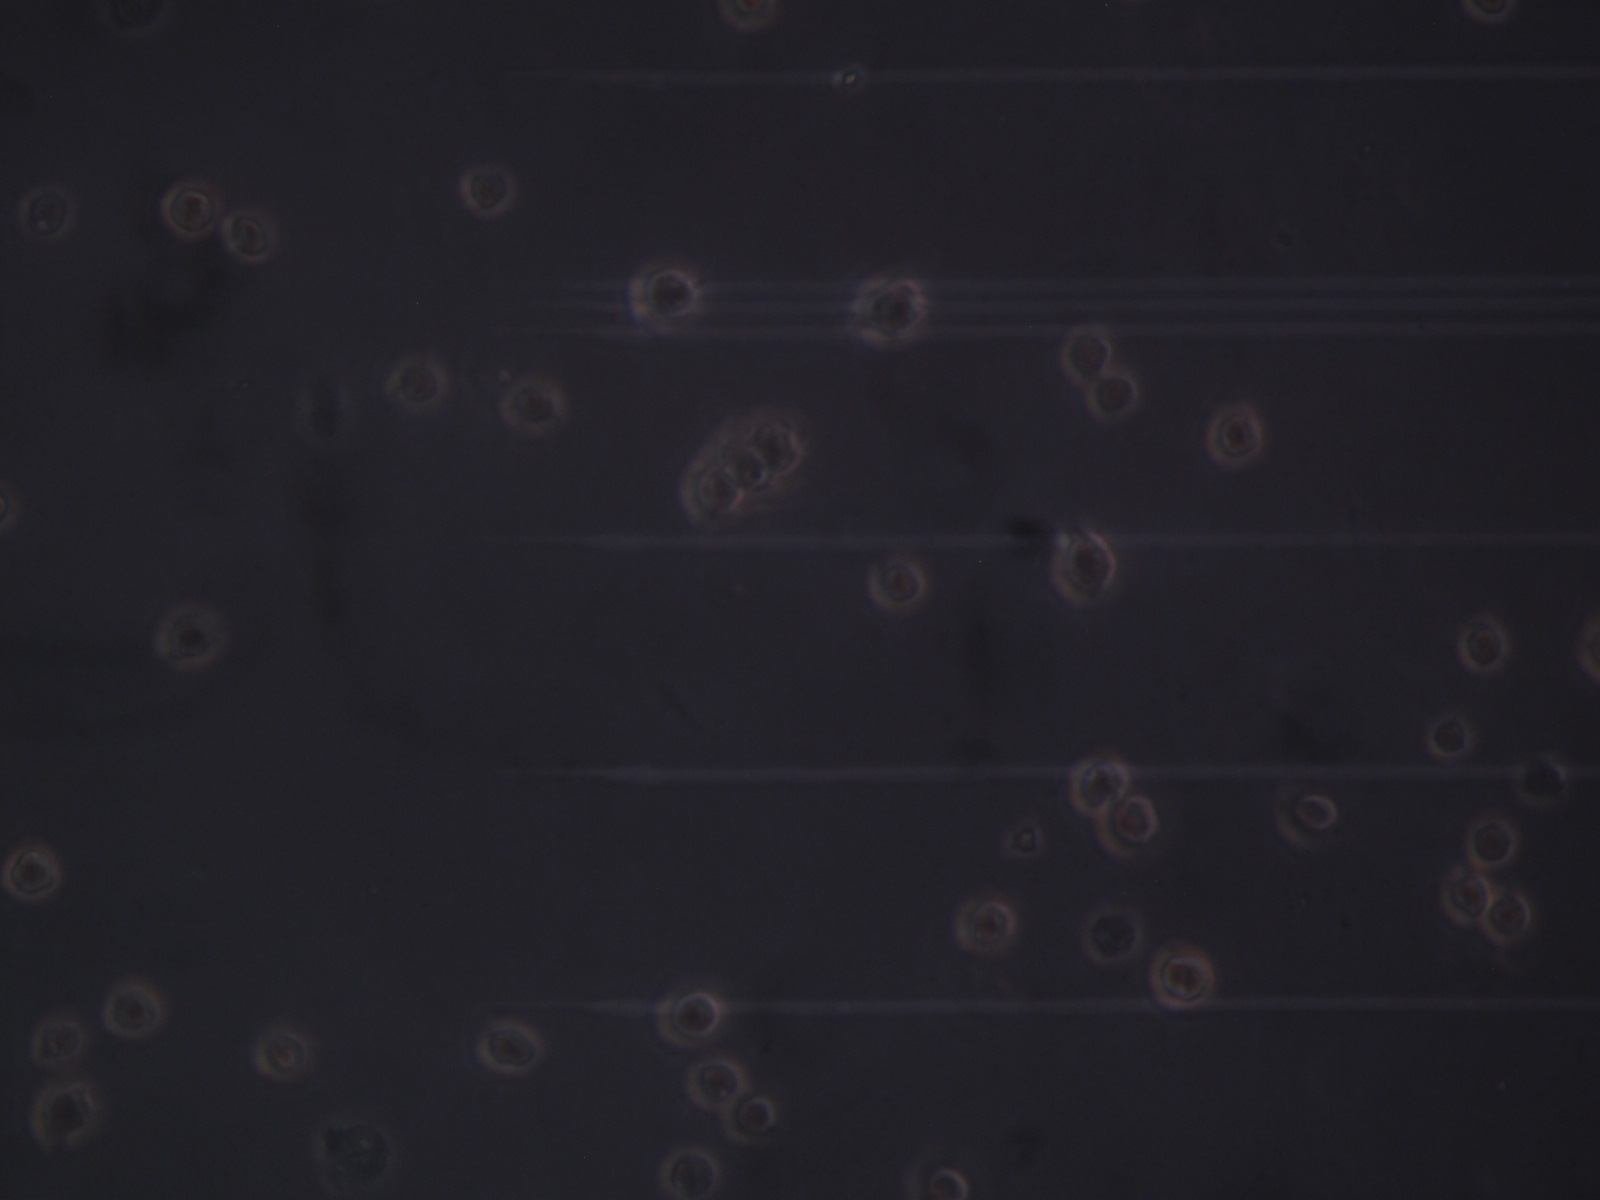hemo: (848, 274, 927, 345), (627, 260, 697, 328), (1053, 532, 1117, 603), (1151, 944, 1214, 1012), (1272, 785, 1337, 851), (496, 374, 568, 432), (1204, 402, 1264, 470), (157, 176, 219, 239), (682, 461, 745, 523), (1071, 753, 1133, 816), (658, 987, 721, 1047), (161, 605, 220, 668), (1099, 795, 1158, 858), (37, 1080, 94, 1143), (1083, 900, 1141, 963), (386, 354, 447, 411), (903, 1150, 971, 1200), (954, 897, 1015, 950), (477, 1020, 540, 1071), (222, 205, 277, 263), (716, 437, 771, 495), (687, 1058, 747, 1111), (8, 839, 62, 897), (1060, 321, 1111, 382), (1458, 614, 1508, 676), (34, 1015, 87, 1073), (747, 421, 801, 476), (107, 981, 160, 1037), (1513, 754, 1569, 807), (1089, 372, 1140, 429), (660, 1150, 718, 1200), (866, 558, 925, 608), (20, 187, 76, 238), (459, 166, 515, 217), (724, 1093, 779, 1145), (1440, 866, 1490, 921), (1466, 817, 1518, 868), (257, 1030, 307, 1078), (1429, 710, 1474, 758), (1487, 896, 1529, 942), (718, 1, 780, 29)
